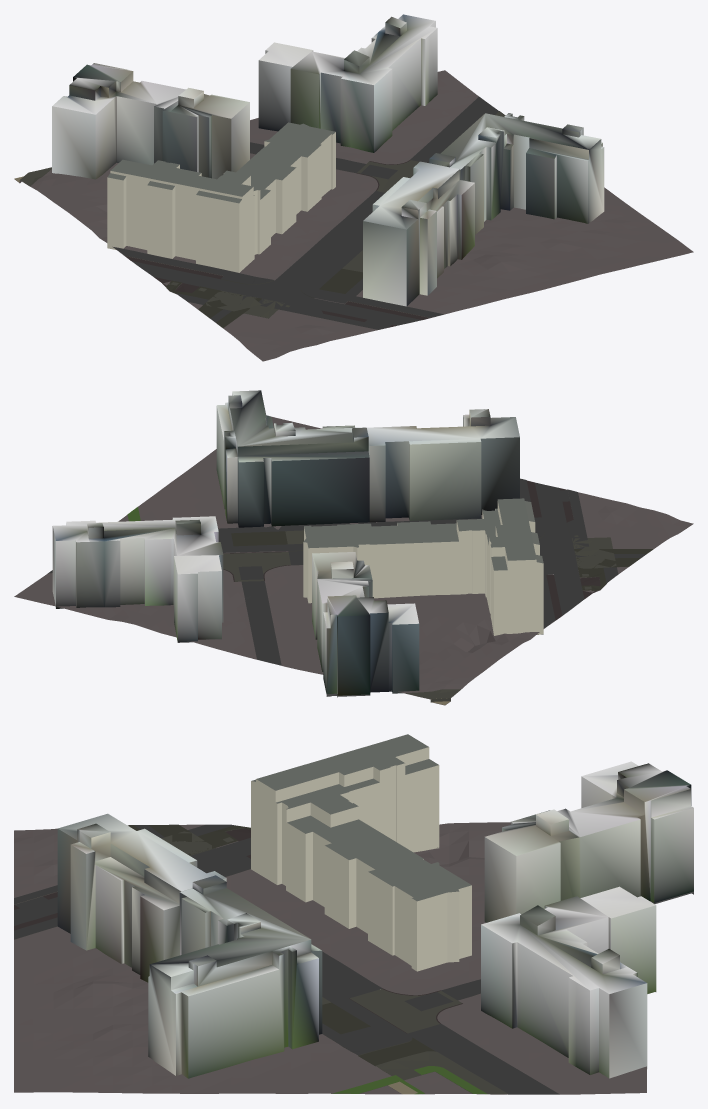
3 views of the same model, one above another, from view 1: azimuth 30°, elevation 25°; view 2: azimuth 150°, elevation 25°; view 3: azimuth 270°, elevation 25° (orthographic). The views are drawn at different scales.
Visible parts, largest first — view 1: c_m18_p08; view 2: c_m18_p08; view 3: c_m18_p08.
Boxes of the visible parts, <box> form: c_m18_p08: <box>14,14,693,361</box>; c_m18_p08: <box>14,390,693,705</box>; c_m18_p08: <box>14,734,693,1094</box>.
Size of the model in its own units: 129 by 30.37 by 137.
